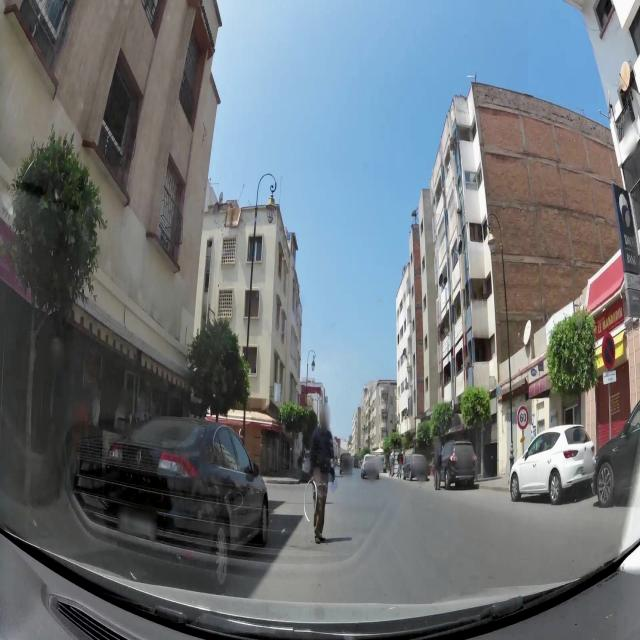car: (83, 413, 270, 590), (508, 423, 596, 504), (592, 391, 640, 509), (434, 437, 476, 490), (402, 452, 429, 481), (361, 454, 380, 479), (339, 451, 353, 474)
